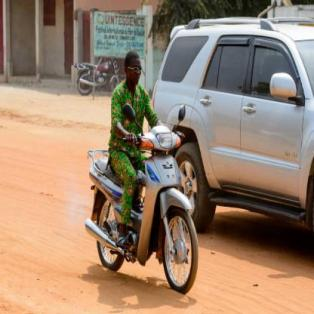Motocicleta: (82, 117, 206, 294)
